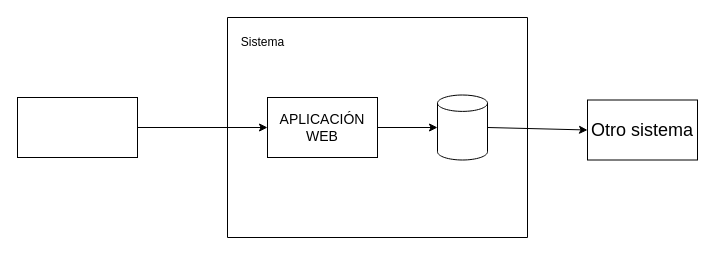
The diagram is 715 pixels wide and 255 high, and some of its shapes have lost their labels. Here are the shapes that lost their labels. From the top down, the centre of each, then its label:
At point (77, 127): "Usuario".
At point (462, 127): "BDD".
